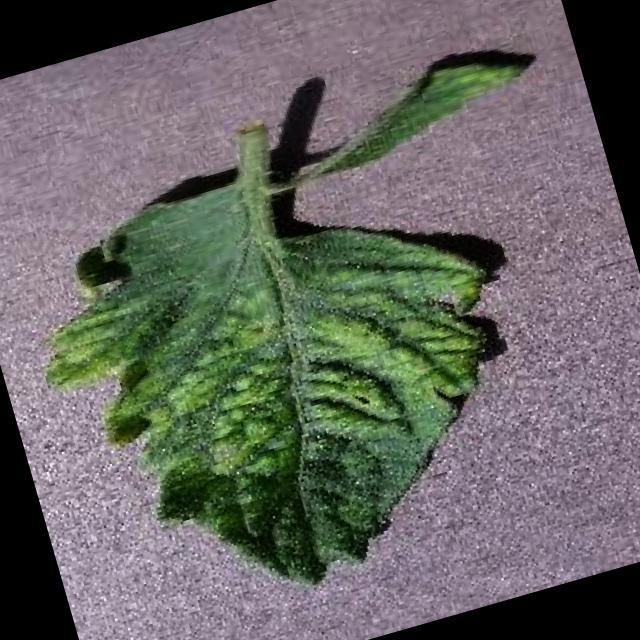Tomato mosaic virus leaf: (6, 116, 559, 640), (289, 38, 546, 184)
